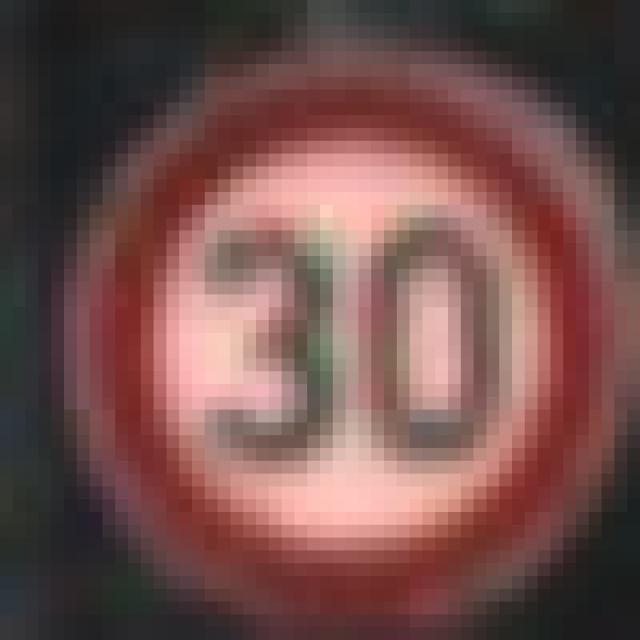SPEED_LIMIT_30: (51, 26, 627, 602)
